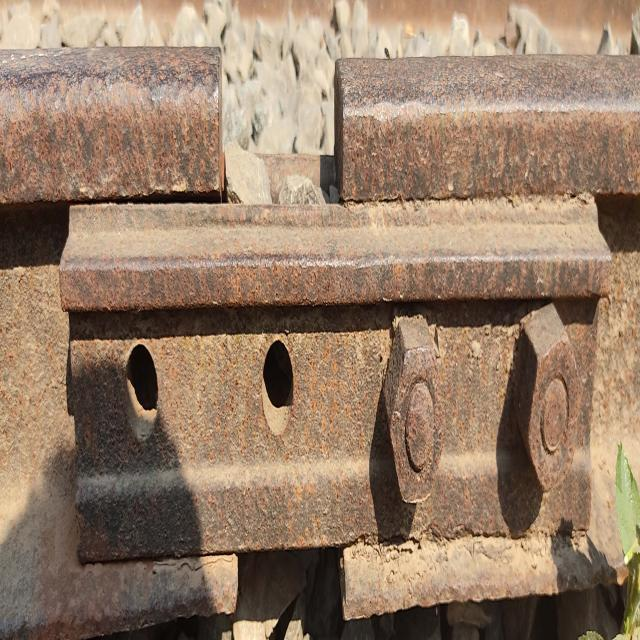railway_join_bar_defects_high: (107, 46, 367, 617)
